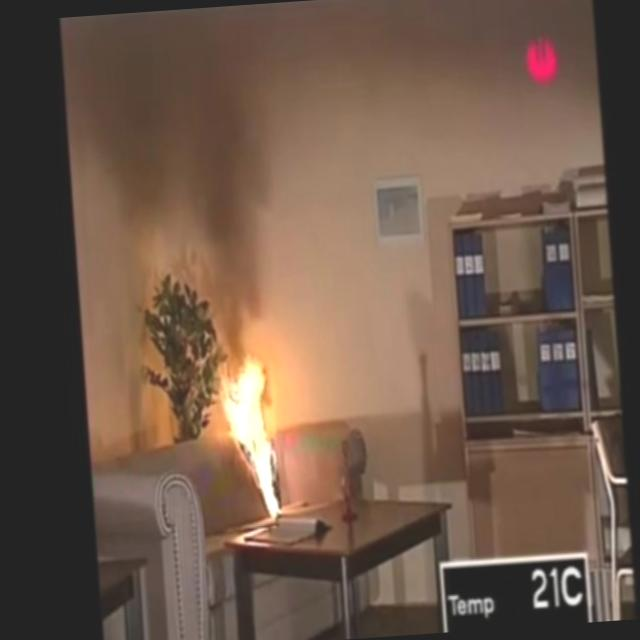fire: (214, 354, 301, 520)
